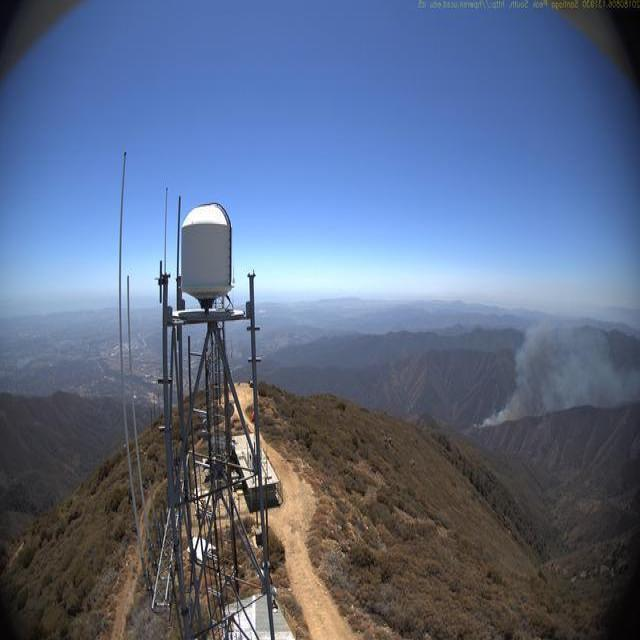Smoke: (483, 304, 640, 432)
